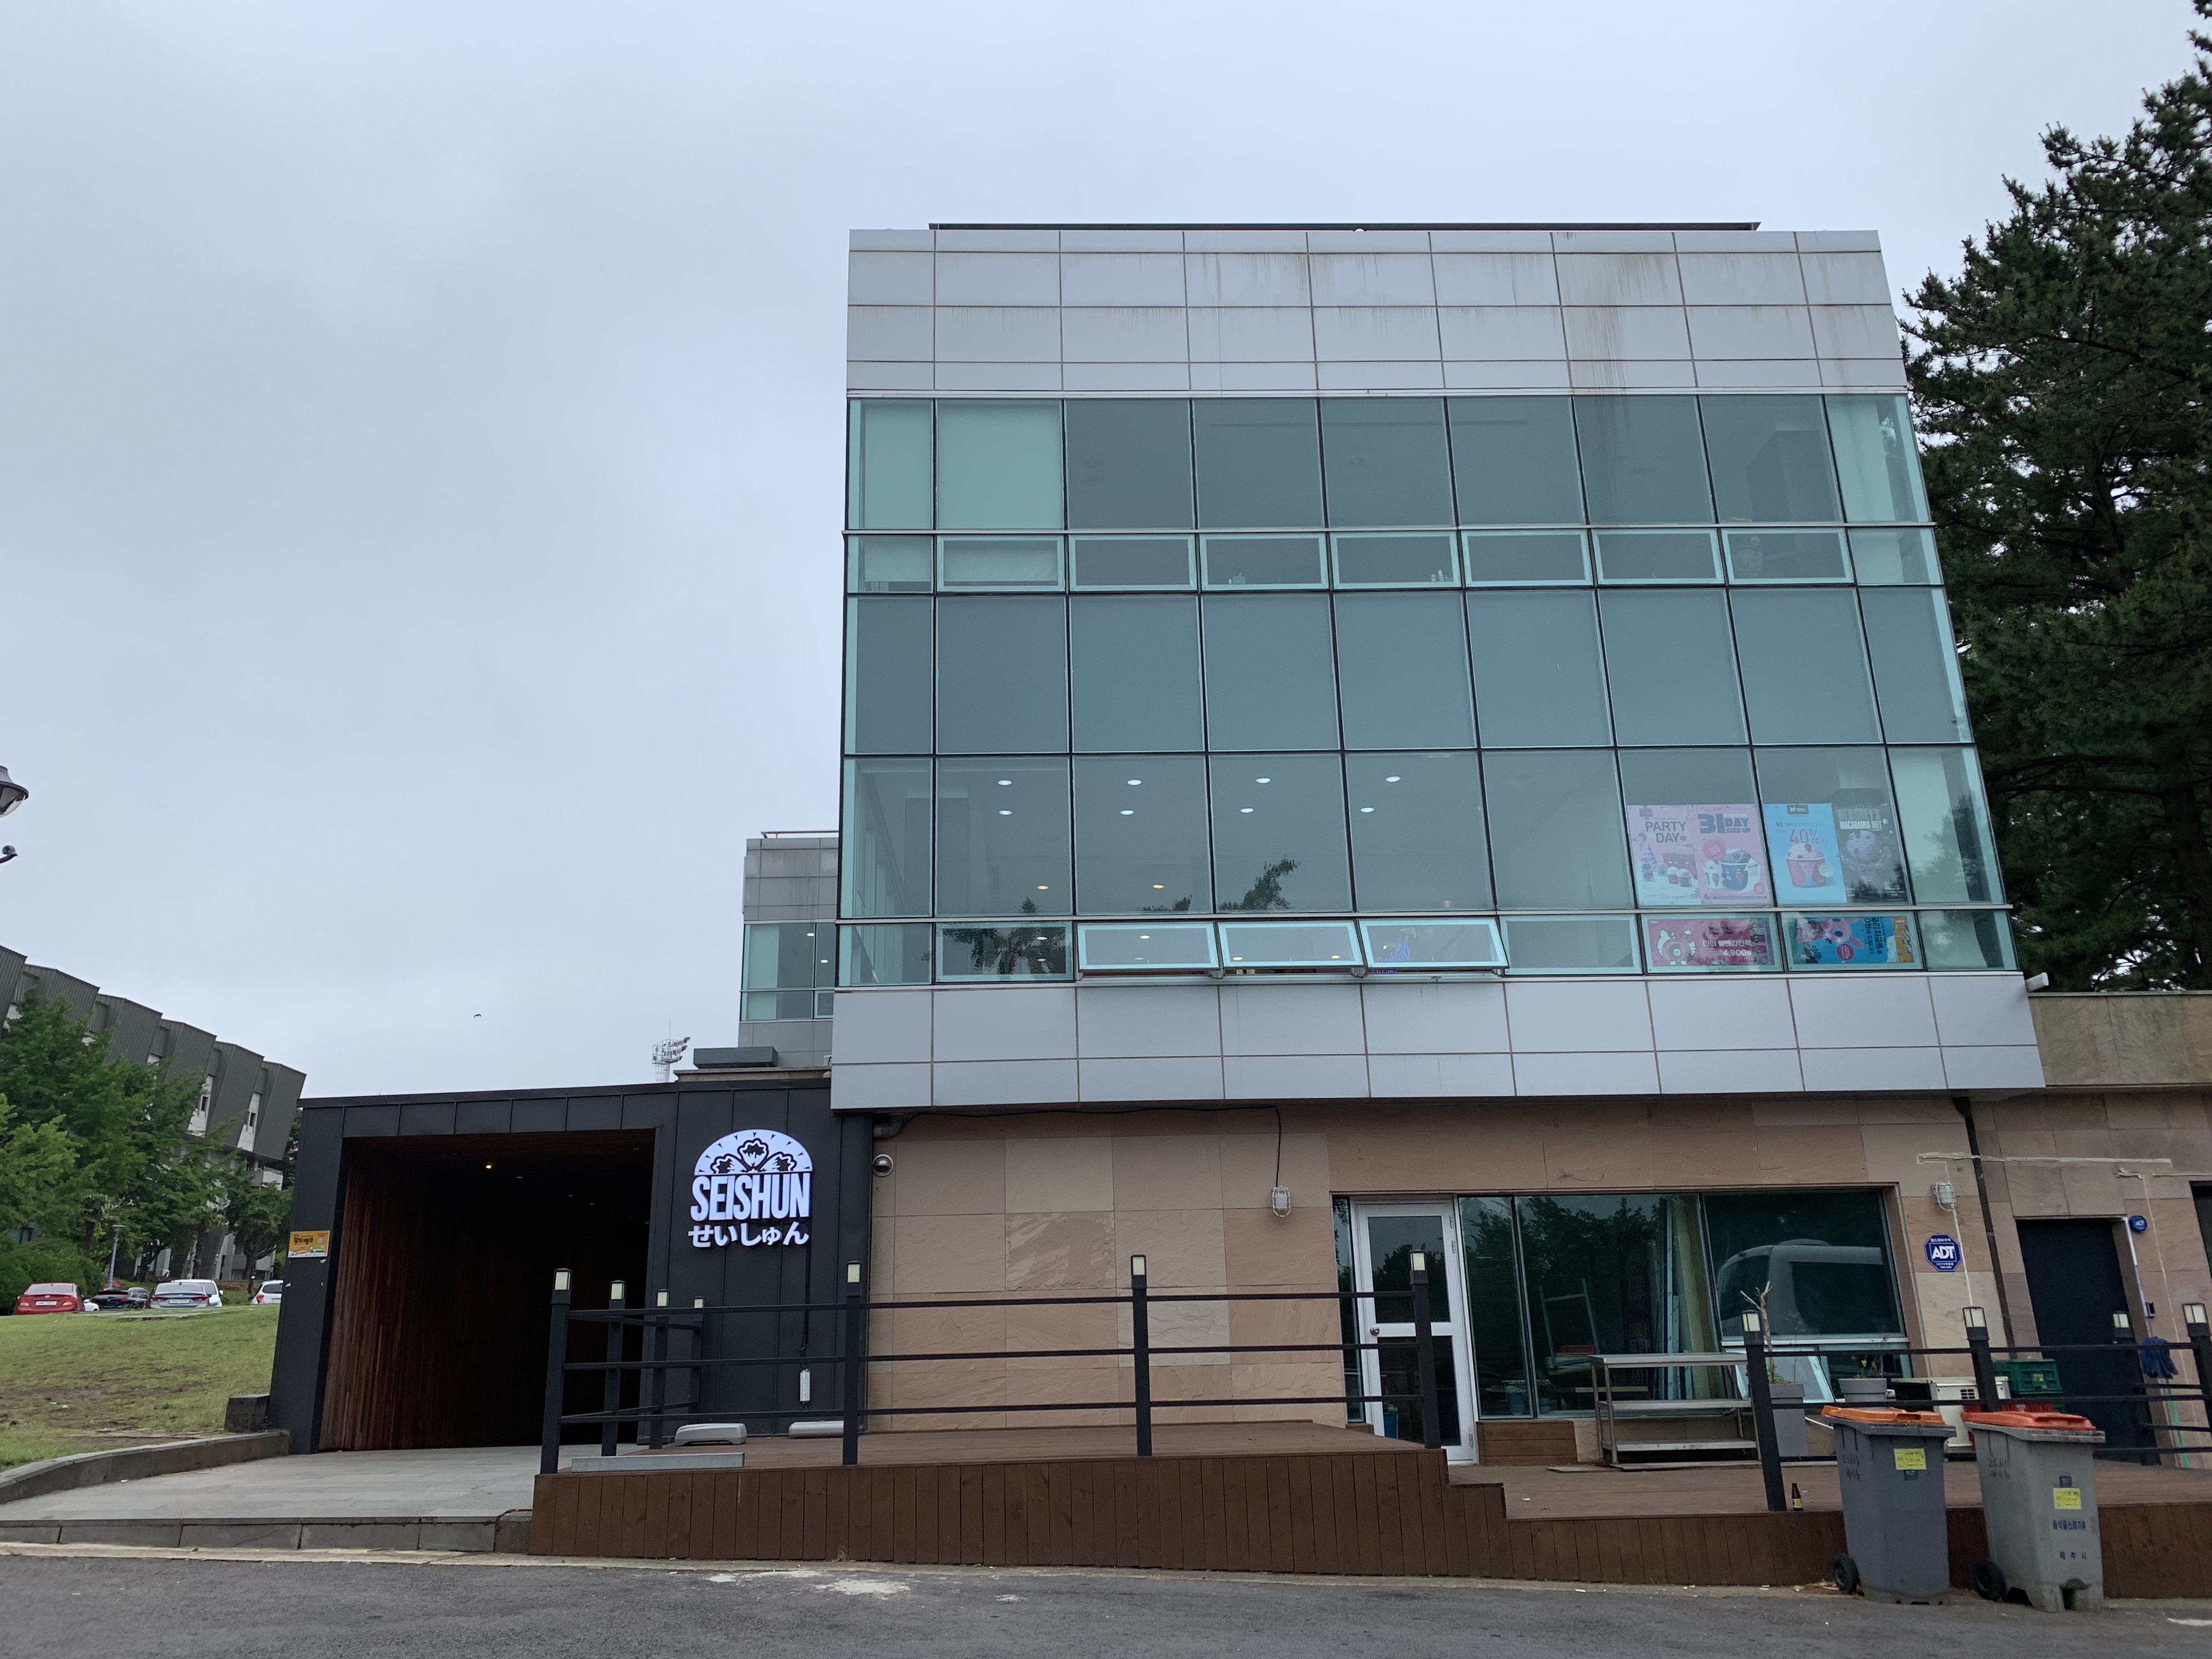Global House: (627, 173, 2074, 1635)
